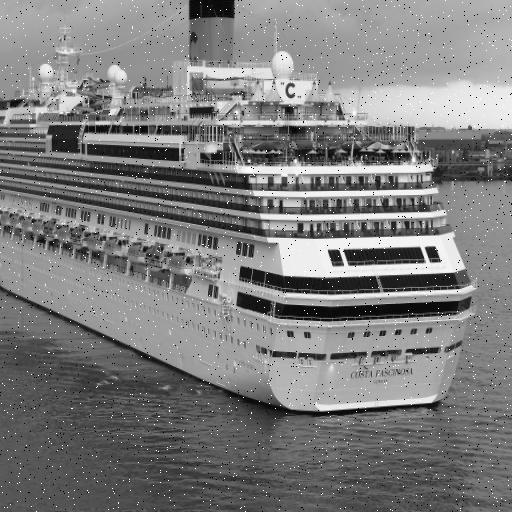cruises: (1, 1, 485, 431)
